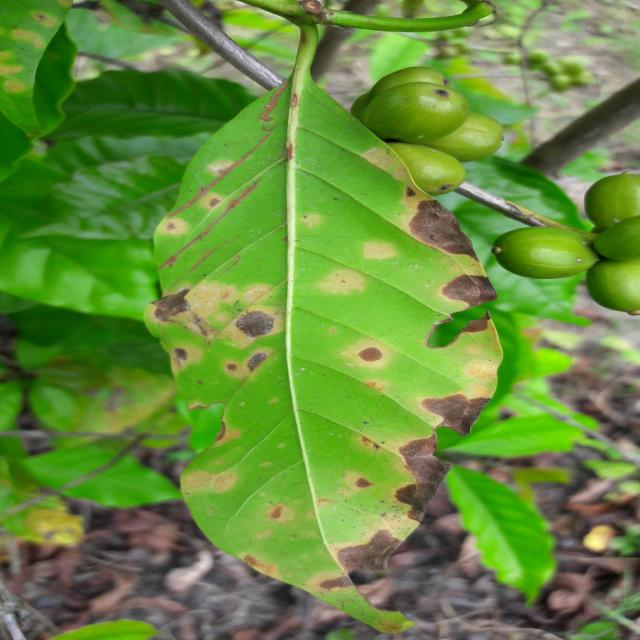Enfermedad-Roya: (143, 68, 499, 597)
